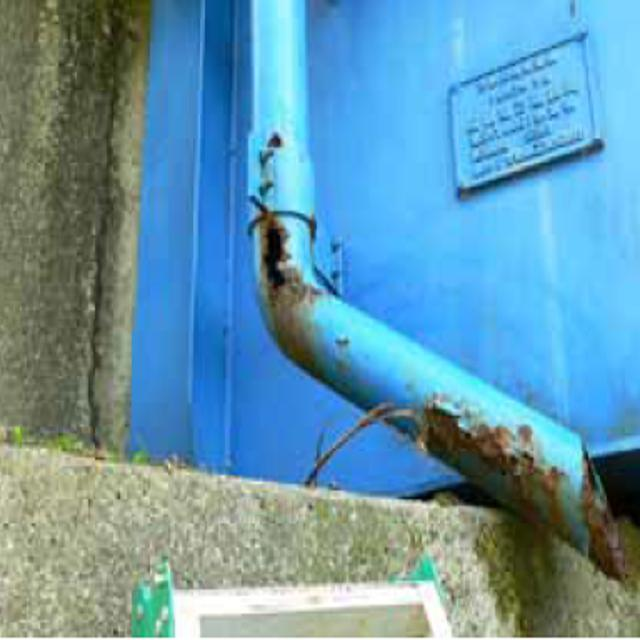corrosion: (422, 350, 627, 580), (250, 203, 331, 383)
